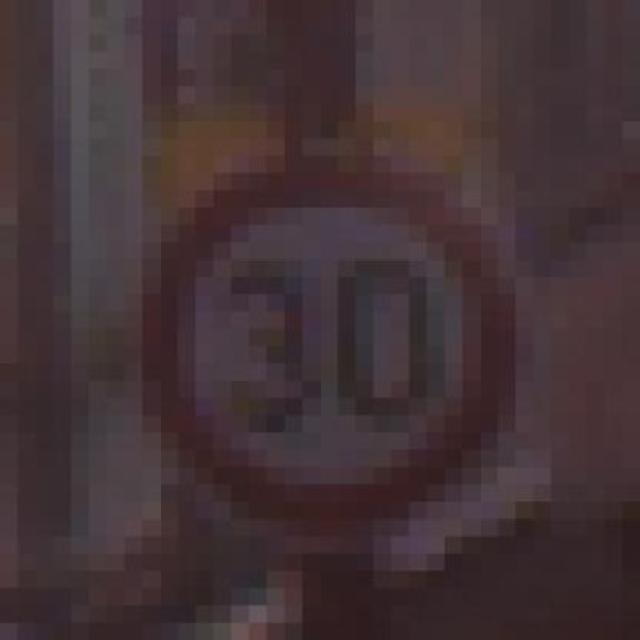Speed Limit 30 KMPh: (89, 121, 569, 553)
